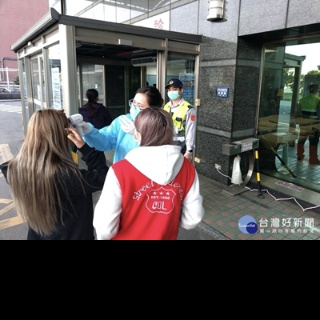with_mask: (128, 99, 147, 121), (167, 86, 180, 100)
